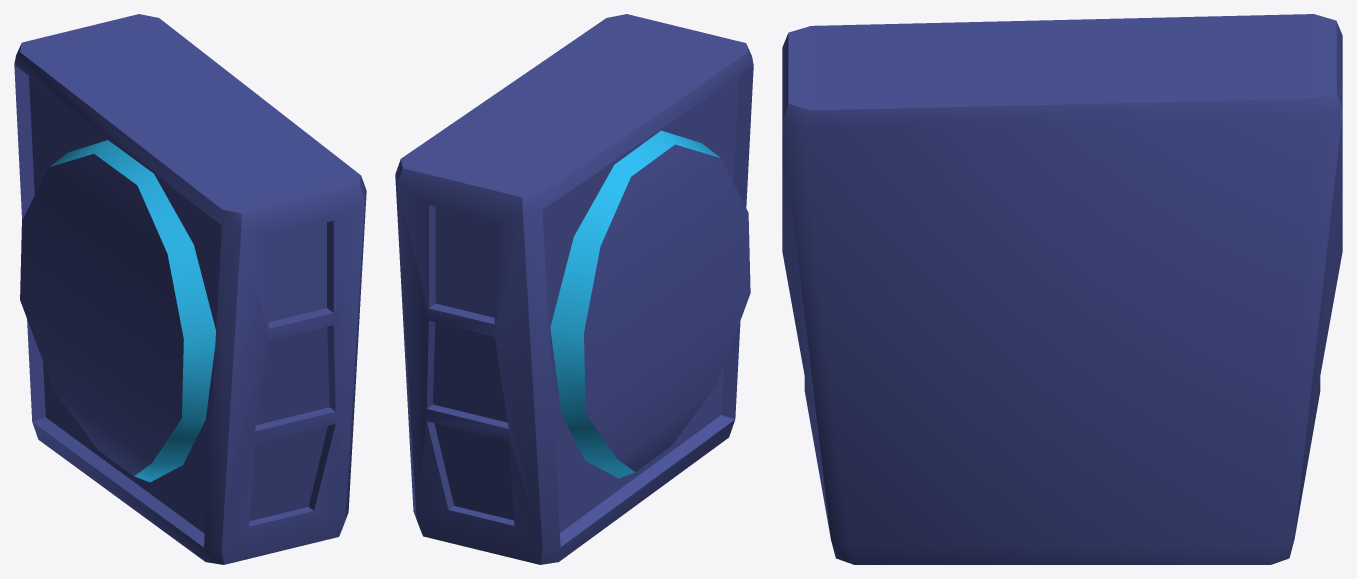
The model's file is SM_Vent_01.fbx.
3 renders of one model, left to right at view 1: azimuth 30°, elevation 25°; view 2: azimuth 150°, elevation 25°; view 3: azimuth 270°, elevation 25°, orthographic. The views are drawn at different scales.
Visible parts, largest first — view 1: SM_Vent_01; view 2: SM_Vent_01; view 3: SM_Vent_01.
Part boxes in pixels (bbox=[...]): SM_Vent_01: bbox=[14, 14, 366, 564]; SM_Vent_01: bbox=[395, 14, 753, 564]; SM_Vent_01: bbox=[782, 14, 1342, 564].
Bounding box in the file's own units: 108 × 237 × 258.
